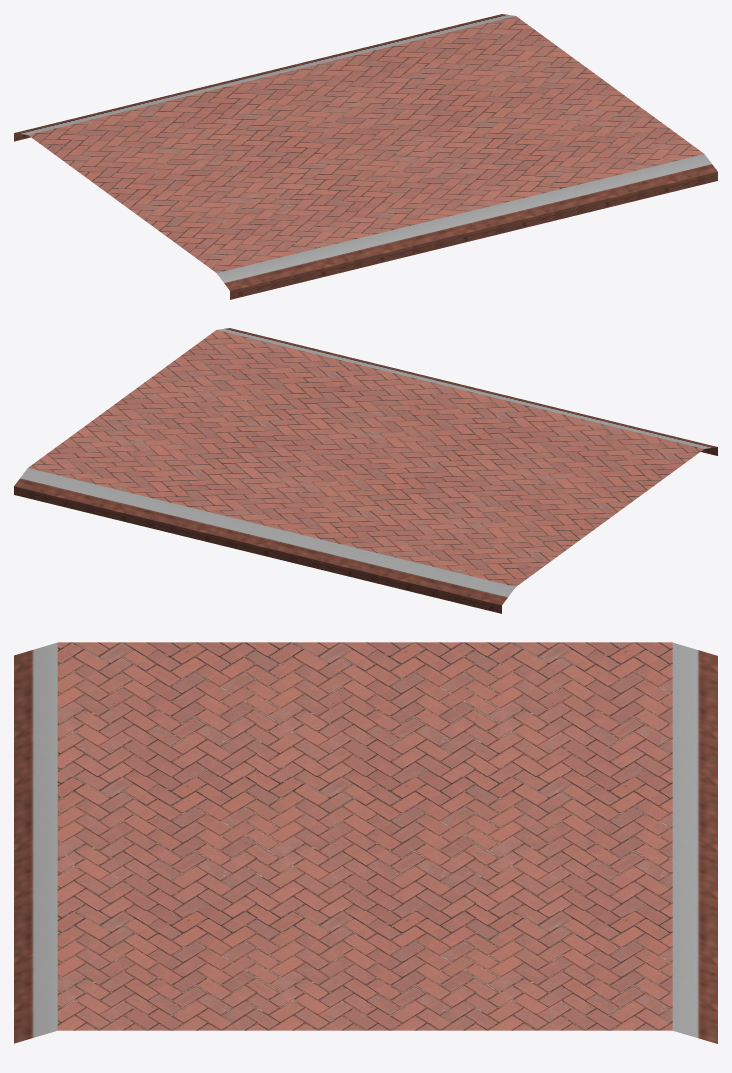
Rendered from weg stuk recht.fbx.
3 views of the same model, one above another, from view 1: azimuth 30°, elevation 25°; view 2: azimuth 150°, elevation 25°; view 3: azimuth 270°, elevation 25° (orthographic). The views are drawn at different scales.
Parts seen in each view (by area): view 1: weg_stuk_deel_15; view 2: weg_stuk_deel_15; view 3: weg_stuk_deel_15.
Boxes of the visible parts, <box> form: weg_stuk_deel_15: <box>14,14,717,299</box>; weg_stuk_deel_15: <box>14,328,717,613</box>; weg_stuk_deel_15: <box>14,642,717,1043</box>.
Size of the model in its own units: 5.22 by 0.1743 by 4.
